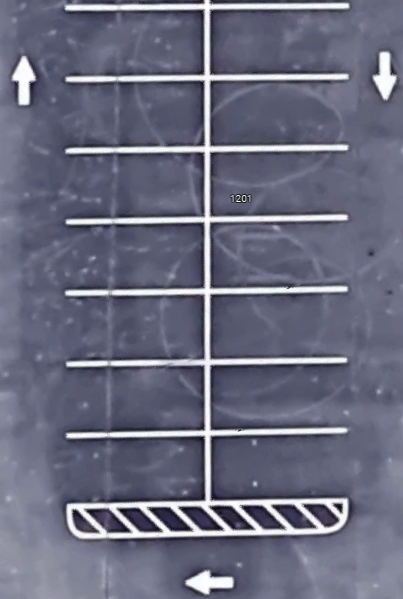Vacant: (206, 7, 349, 78), (65, 8, 207, 79), (66, 220, 208, 291), (65, 79, 209, 149), (67, 291, 208, 362), (65, 149, 207, 219), (68, 363, 209, 433), (207, 219, 347, 289), (208, 77, 346, 148), (68, 434, 207, 504), (207, 149, 347, 218), (209, 291, 346, 361), (209, 363, 344, 431), (209, 434, 346, 501)
